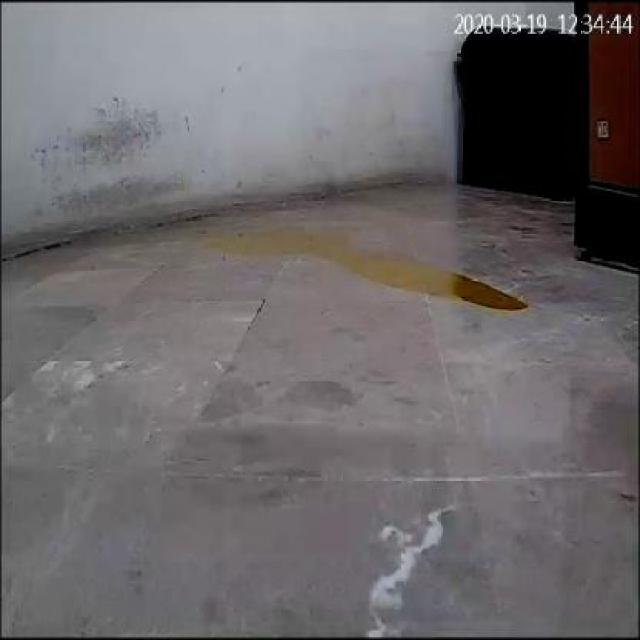spill: (207, 231, 527, 304)
